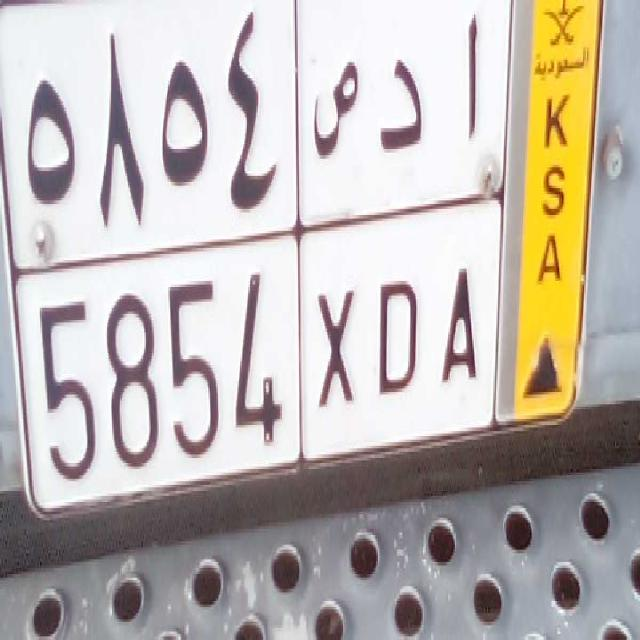license_plate: (16, 232, 494, 505)
